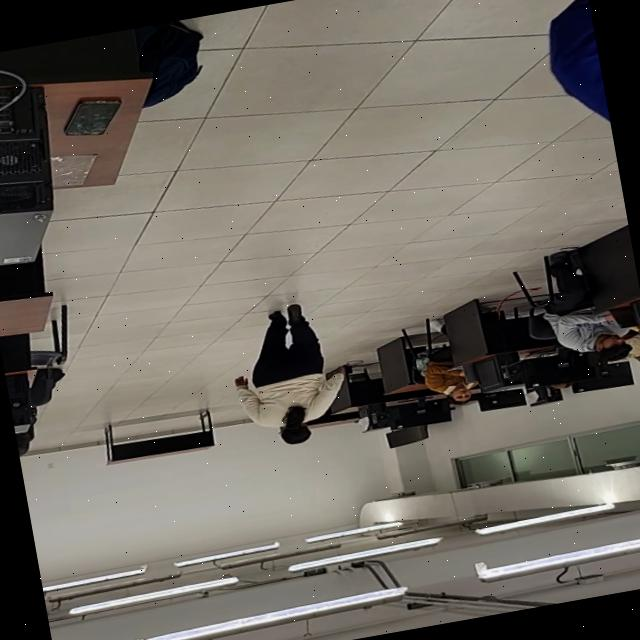Persona: (224, 297, 358, 453)
